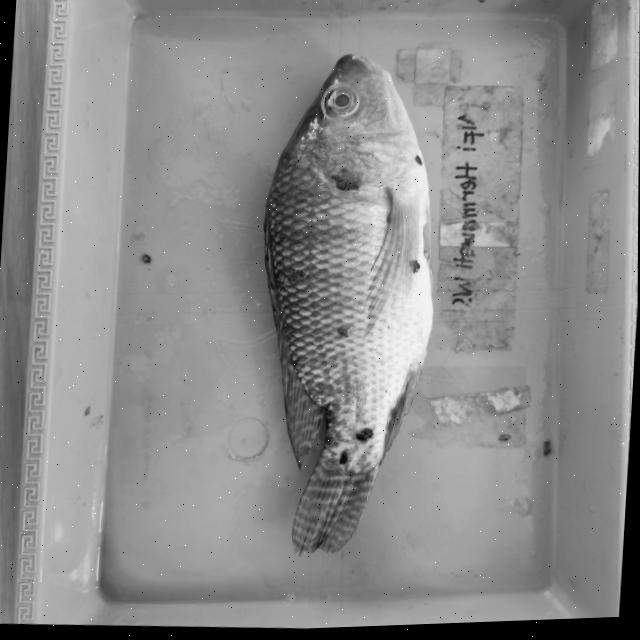Fresh: (254, 133, 454, 558), (299, 68, 377, 126)
